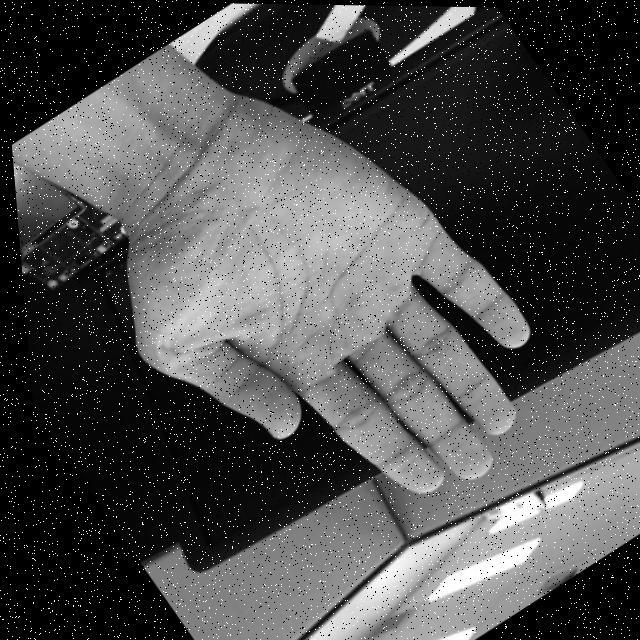no-gloves: (29, 34, 598, 596)
